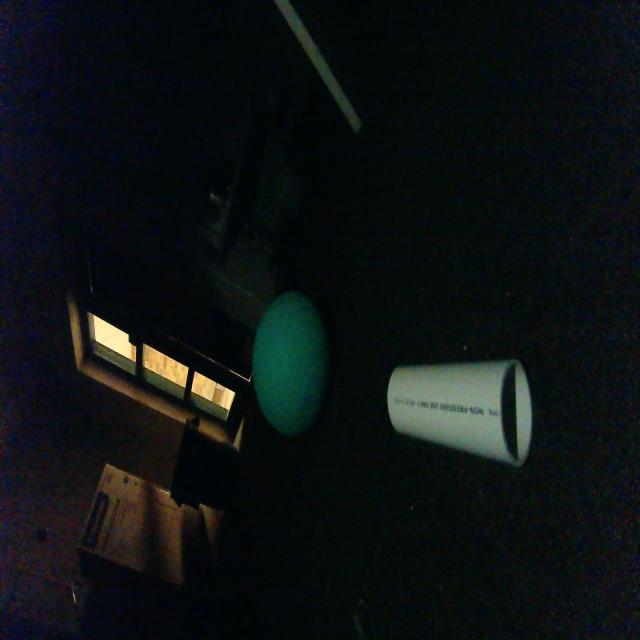algae: (249, 283, 336, 443)
coral: (383, 354, 536, 471)
